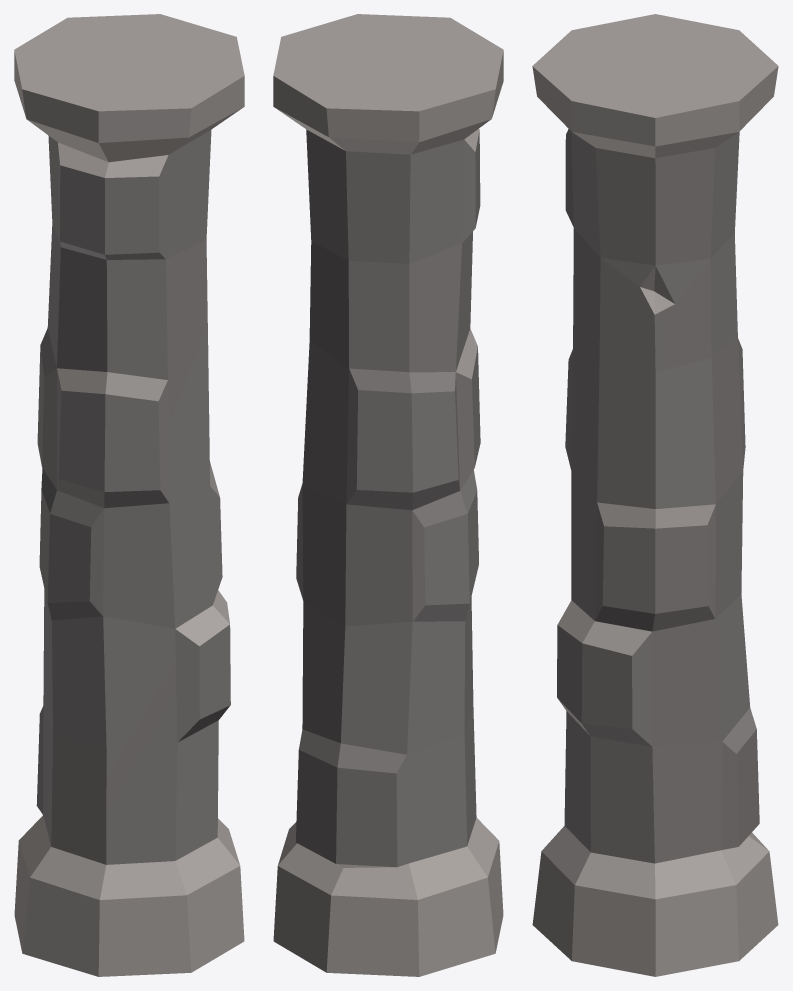
File: dungeon-pillar-stone-round.glb
3 renders of one model, left to right at view 1: azimuth 30°, elevation 25°; view 2: azimuth 150°, elevation 25°; view 3: azimuth 270°, elevation 25°, orthographic.
Visible parts, largest first — view 1: dungeon-pillar-stone-round; view 2: dungeon-pillar-stone-round; view 3: dungeon-pillar-stone-round.
Part boxes in pixels (x1,y1,x2,y2): dungeon-pillar-stone-round: (14, 14, 244, 976); dungeon-pillar-stone-round: (273, 14, 503, 976); dungeon-pillar-stone-round: (532, 14, 778, 976).
Bounding box in the file's own units: 0.7844 × 3.02 × 0.7844.
Materials: 1 (1 with a texture image).
